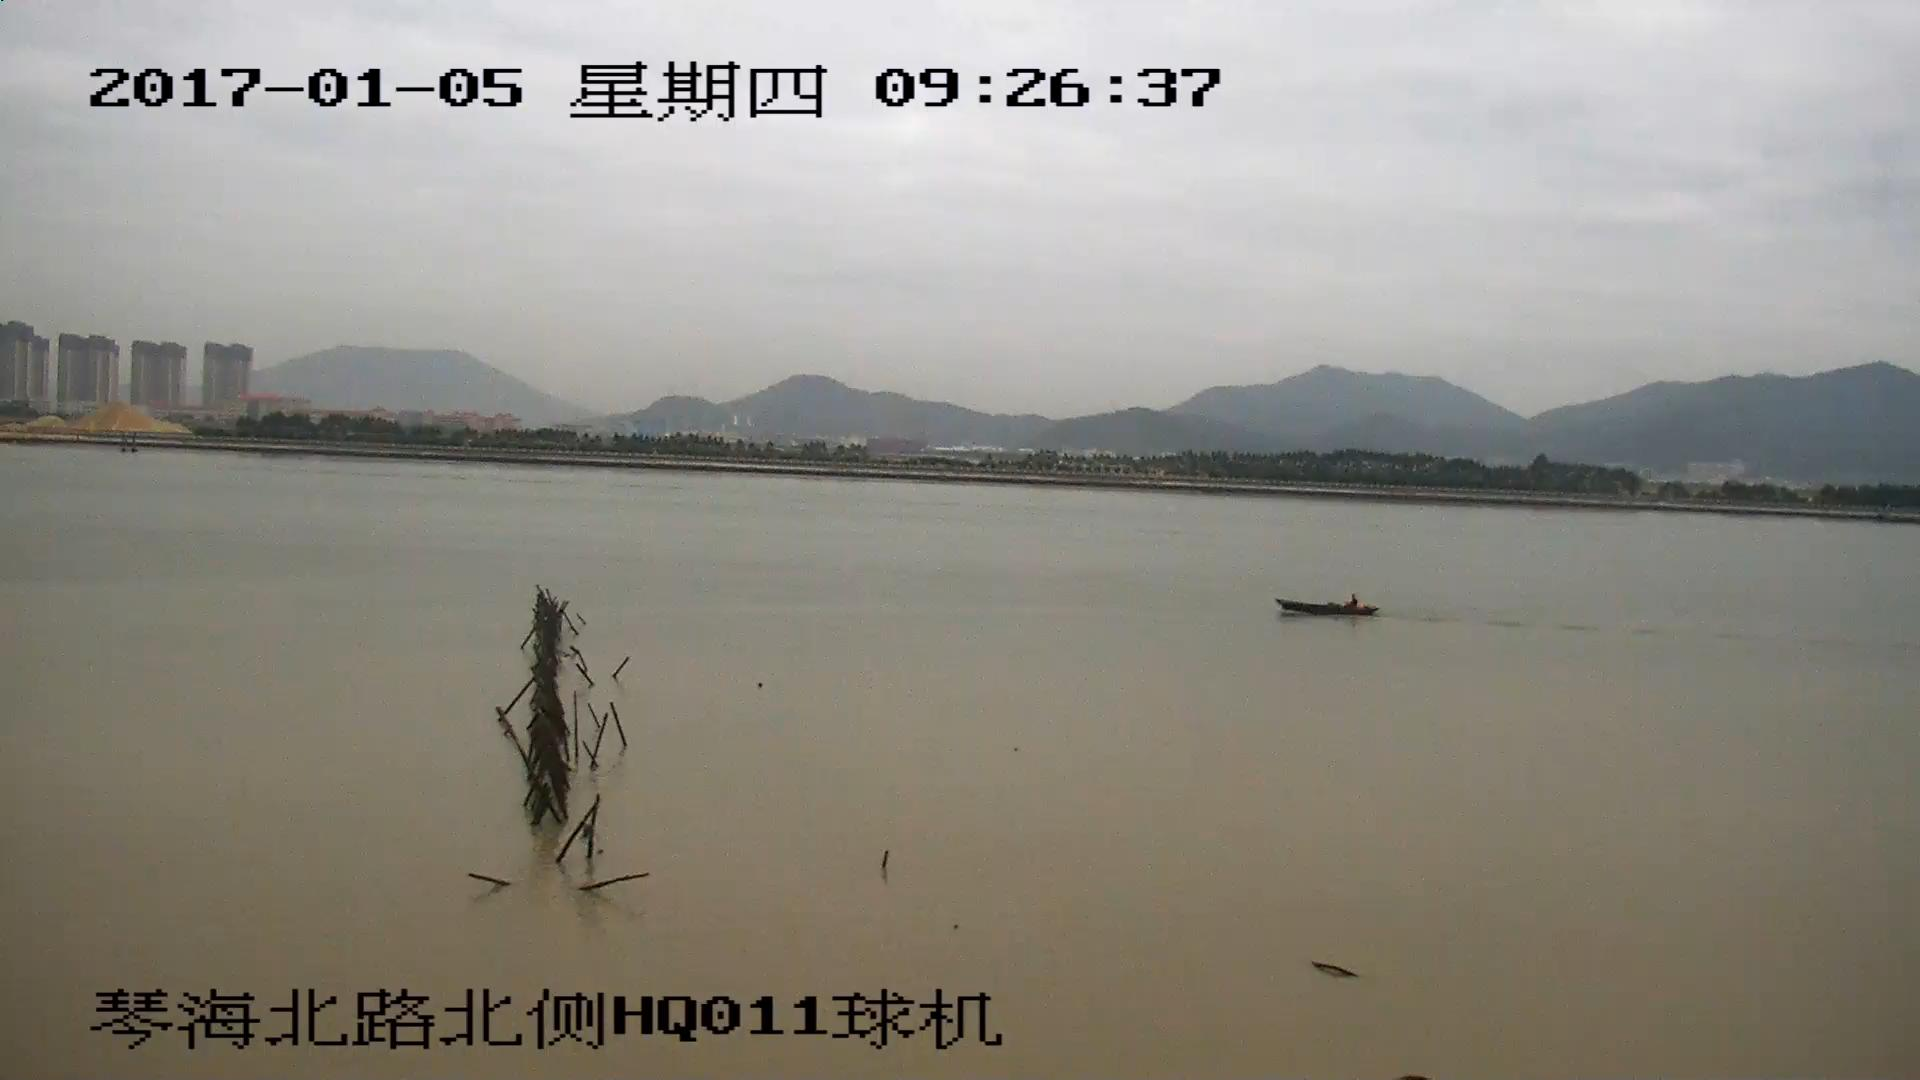fishing boat: (1278, 592, 1372, 616)
